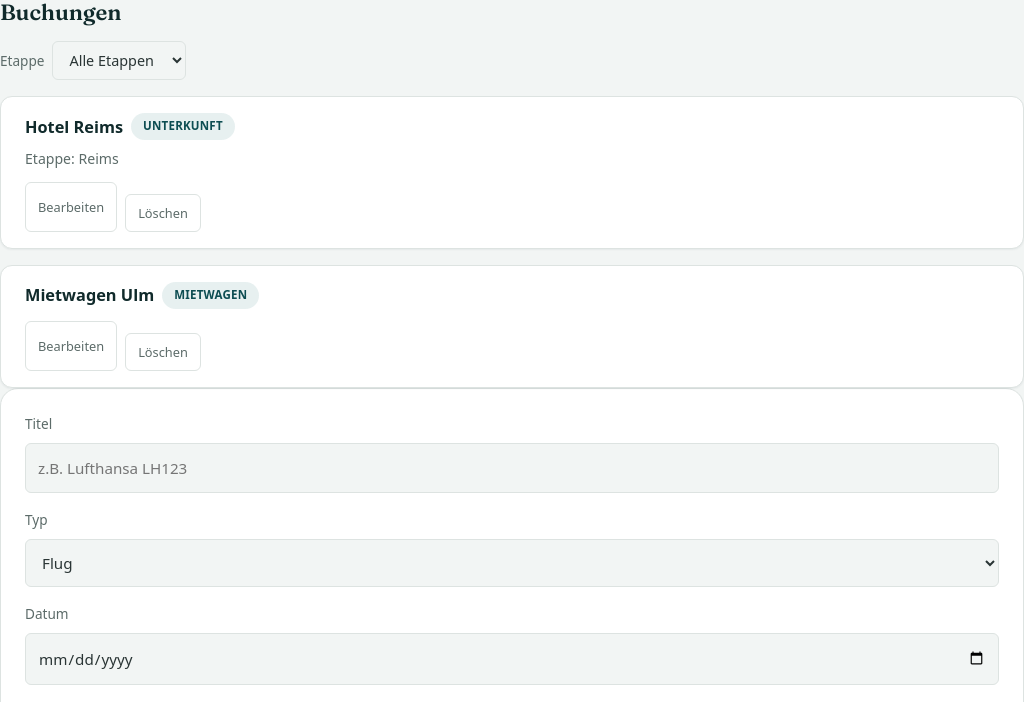
Scenario: Etappen-Filter im Bereich Buchungen › Nutzerpfad: Filter zuruecksetzen -> alle Eintraege wieder da, Daten unveraendert
Check: the text "Hotel Reims" is shown, box x1=25 y1=114 x2=123 y2=140
Select "Reims" in the dropdown labelled "Etappe": (120, 61) x1=52 y1=42 x2=186 y2=80
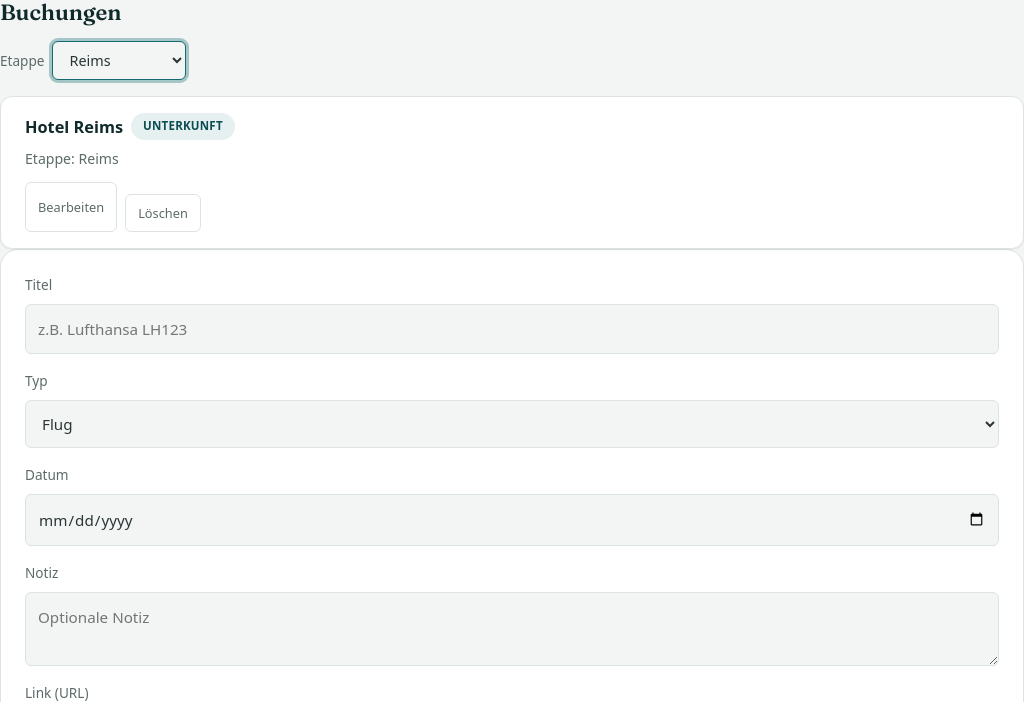
Select "Alle Etappen" in the dropdown labelled "Etappe": (120, 61) x1=52 y1=42 x2=186 y2=80
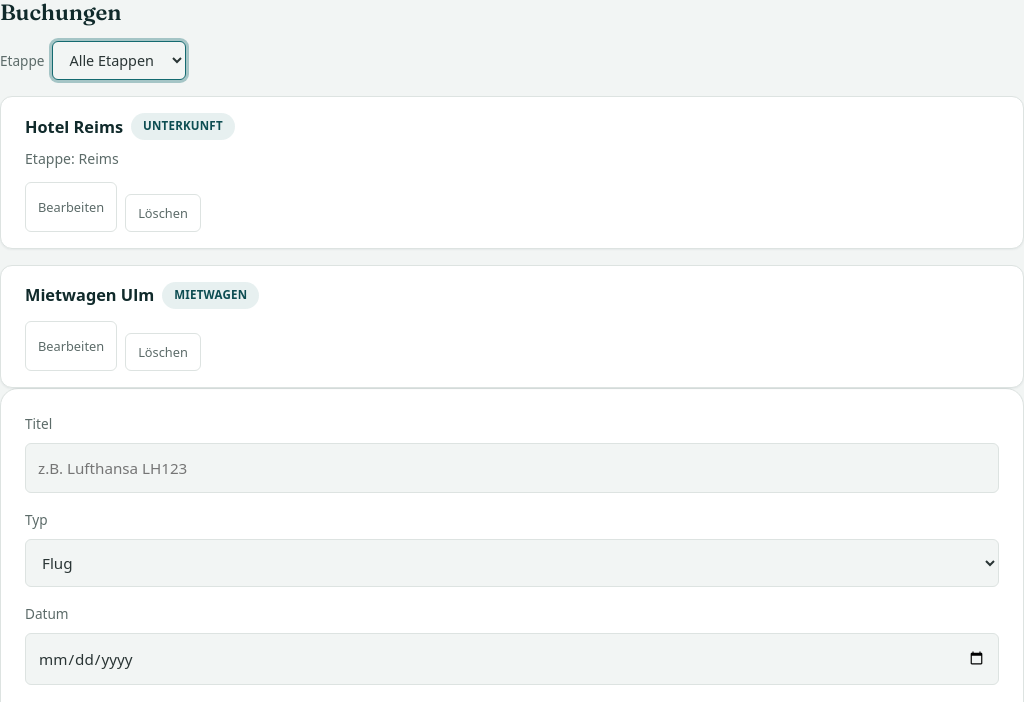
Check: the text "Hotel Reims" is shown, box x1=25 y1=114 x2=123 y2=140
Check: the text "Mietwagen Ulm" is shown, box x1=25 y1=282 x2=154 y2=308
